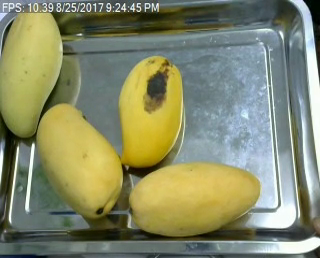Mango: (34, 104, 124, 220), (130, 163, 260, 240), (0, 4, 65, 137), (114, 55, 182, 169)
